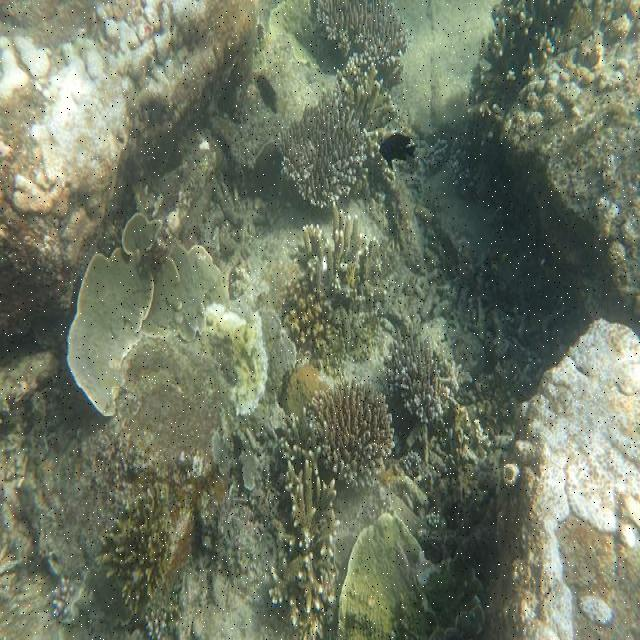fish: (380, 131, 417, 172), (258, 76, 277, 114)
reefs: (490, 320, 639, 639), (500, 0, 639, 336), (65, 212, 223, 417), (280, 57, 400, 209), (263, 410, 339, 639), (301, 204, 386, 341), (93, 484, 175, 623), (309, 379, 394, 486), (311, 0, 406, 90), (384, 329, 453, 425)
sea-floor: (0, 0, 258, 309)
